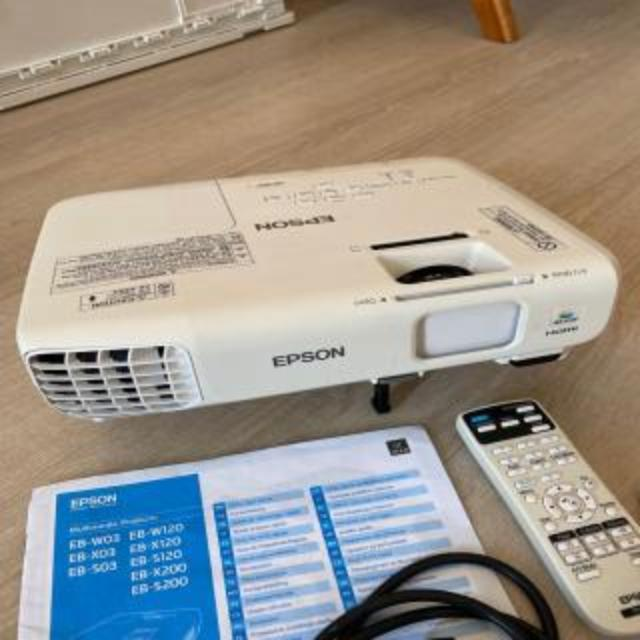Projector: (22, 154, 620, 418)
